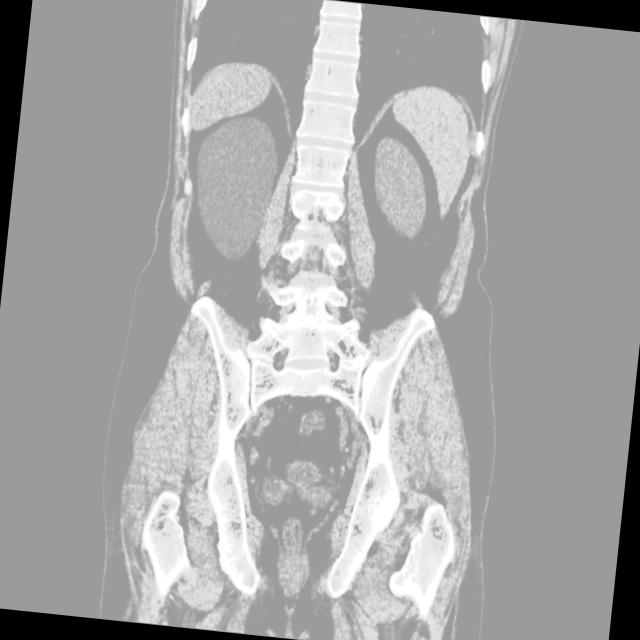cysts: (95, 0, 543, 640)
